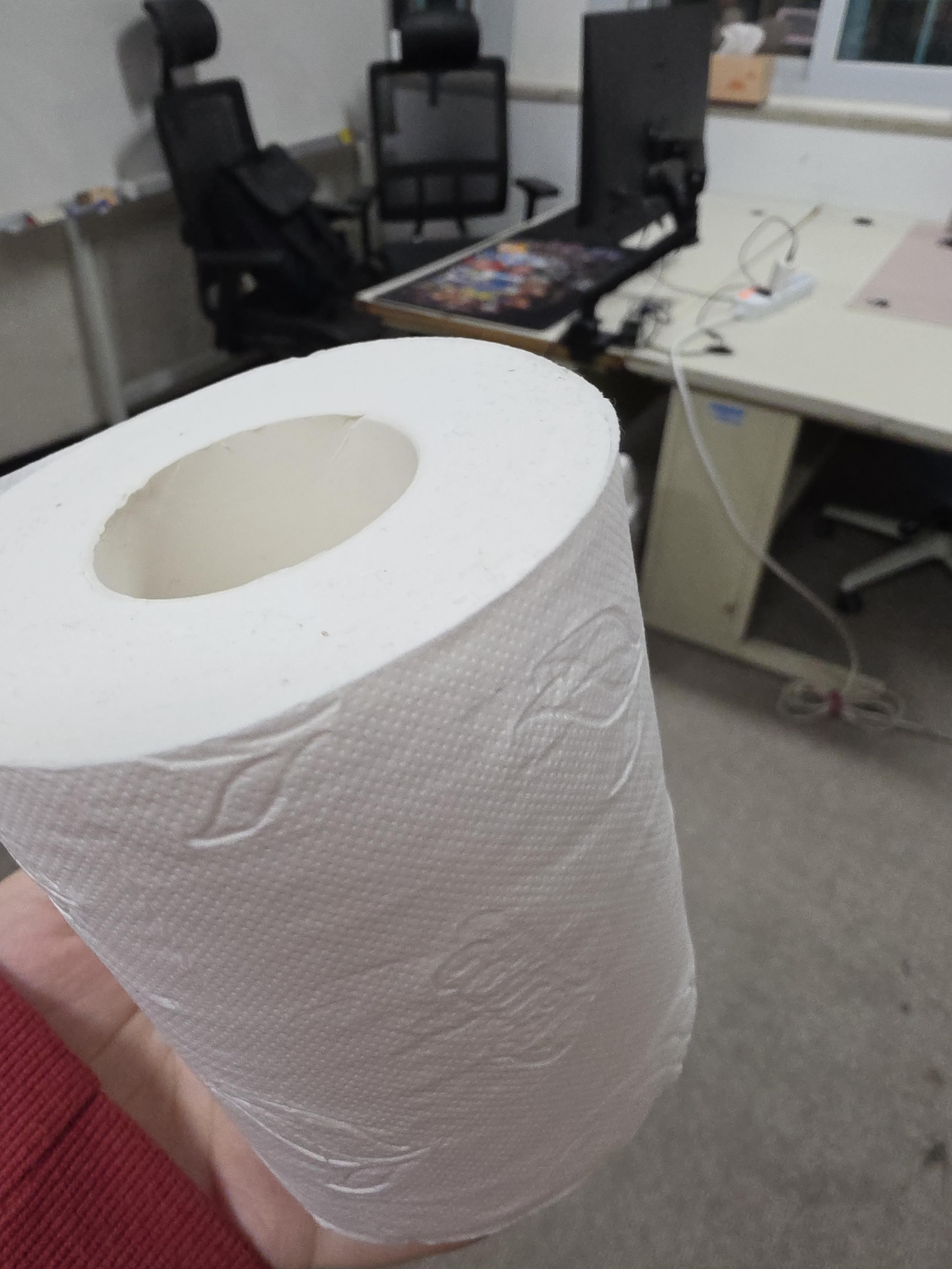tissue: (0, 337, 698, 1247), (708, 22, 774, 106)
